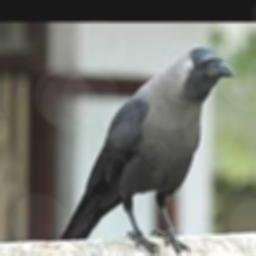Crow: (58, 46, 235, 256)
